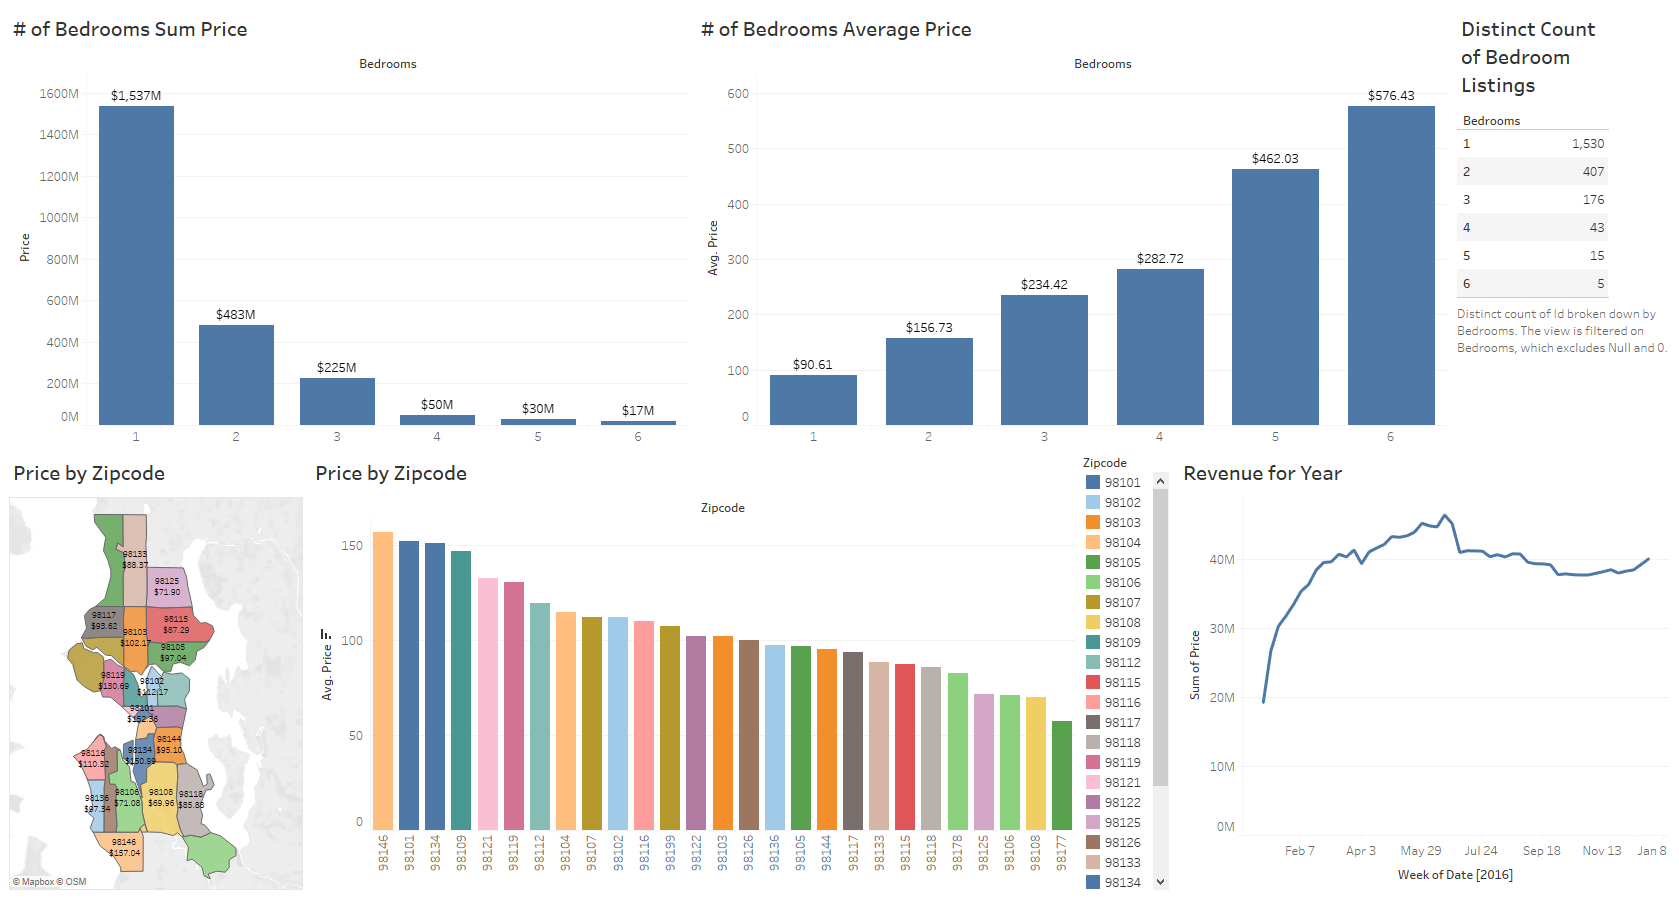

The page's visual inventory and layout, read from the dashboard file:
{"tool":"tableau","page":{"name":"Dashboard of Airbnb Listings","canvas":[1000,1000],"units":"permille","ordinal":0},"visuals":[{"type":"worksheet","title":"# of Bedrooms Sum Price - Bar Graph","mark":"Automatic","rows":["price"],"cols":["bedrooms"],"box":[4.8,8.8,408.6,491.2]},{"type":"worksheet","title":"# of Bedrooms Average Price - Bar Graph (2)","mark":"Automatic","rows":["price"],"cols":["bedrooms"],"box":[413.3,8.8,451.3,491.2]},{"type":"worksheet","title":"Distinct Count of Bedroom Listings","mark":"Automatic","rows":["bedrooms"],"box":[864.6,8.8,130.6,491.2]},{"type":"worksheet","title":"Price by Zipcode - Map","mark":"Multipolygon","box":[4.8,500,179.3,491.2]},{"type":"worksheet","title":"Price by Zipcode - Bar Graph","mark":"Automatic","rows":["price"],"cols":["zipcode"],"box":[184.1,500,458.4,491.2]},{"type":"legend","title":"Price by Zipcode - Bar Graph","param":"[federated.1ozx6br12qetyi1d80j1p1t9ca3w].[none:zipcode:ok]","box":[642.5,500,57,491.2]},{"type":"worksheet","title":"Revenue for Year - Line Graph","mark":"Automatic","rows":["price (Calendar)"],"cols":["date"],"box":[699.5,500,295.7,491.2]}]}

Visuals, with their boxes on the dashboard's canvas, which has no fixed pixel size, in thousandths of its width and height (x1, y1, x2, y2). These are canvas units, not pixel positions in the 1679x900 screenshot, which may show the page scaled, cropped or inside an application window:
"# of Bedrooms Sum Price - Bar Graph" worksheet: <box>5,9,413,500</box>
"# of Bedrooms Average Price - Bar Graph (2)" worksheet: <box>413,9,865,500</box>
"Distinct Count of Bedroom Listings" worksheet: <box>865,9,995,500</box>
"Price by Zipcode - Map" worksheet (Multipolygon marks): <box>5,500,184,991</box>
"Price by Zipcode - Bar Graph" worksheet: <box>184,500,642,991</box>
"Price by Zipcode - Bar Graph" legend: <box>642,500,700,991</box>
"Revenue for Year - Line Graph" worksheet: <box>700,500,995,991</box>
